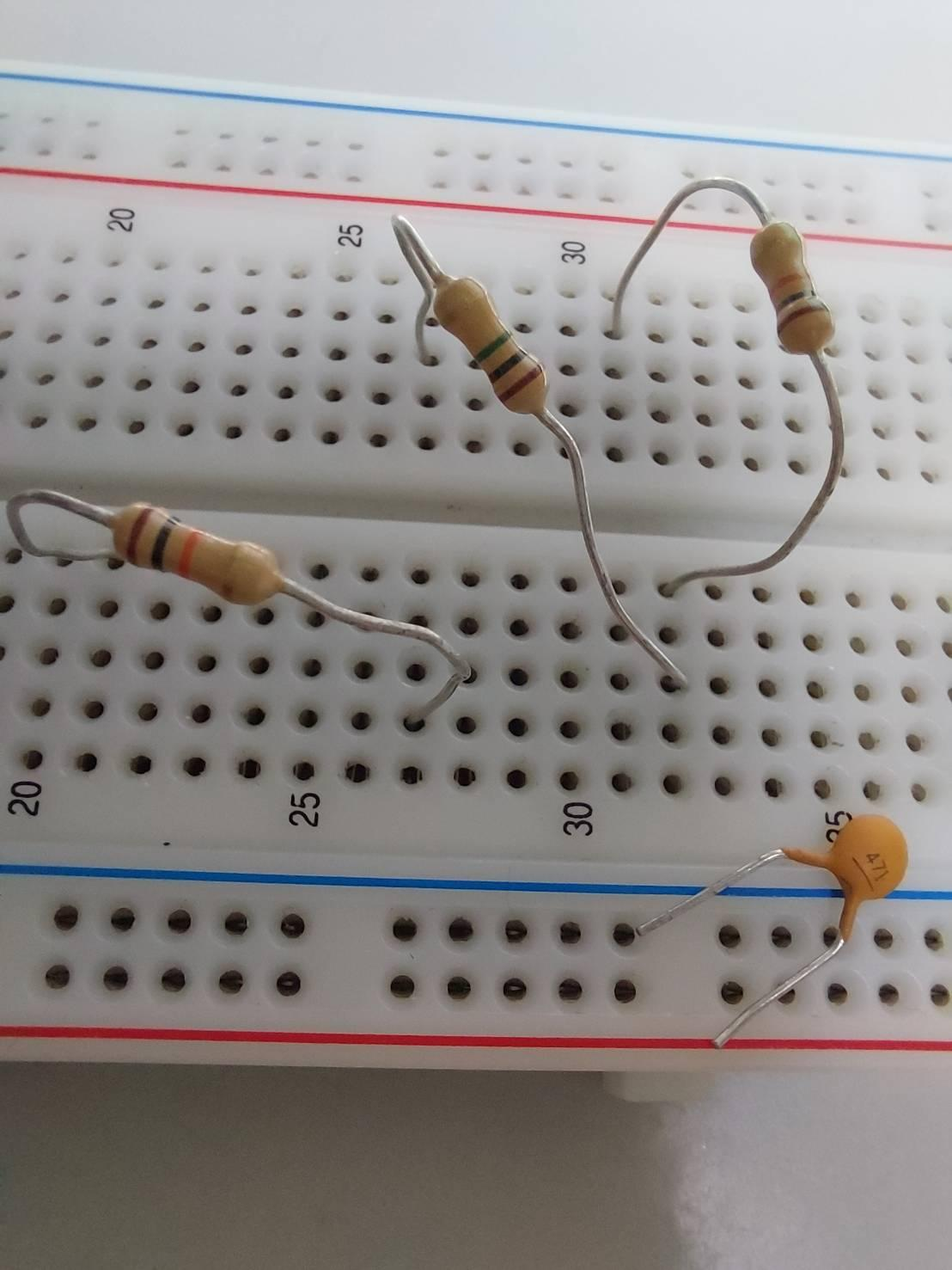resistor: (430, 267, 550, 416), (112, 502, 284, 602), (744, 213, 830, 359)
